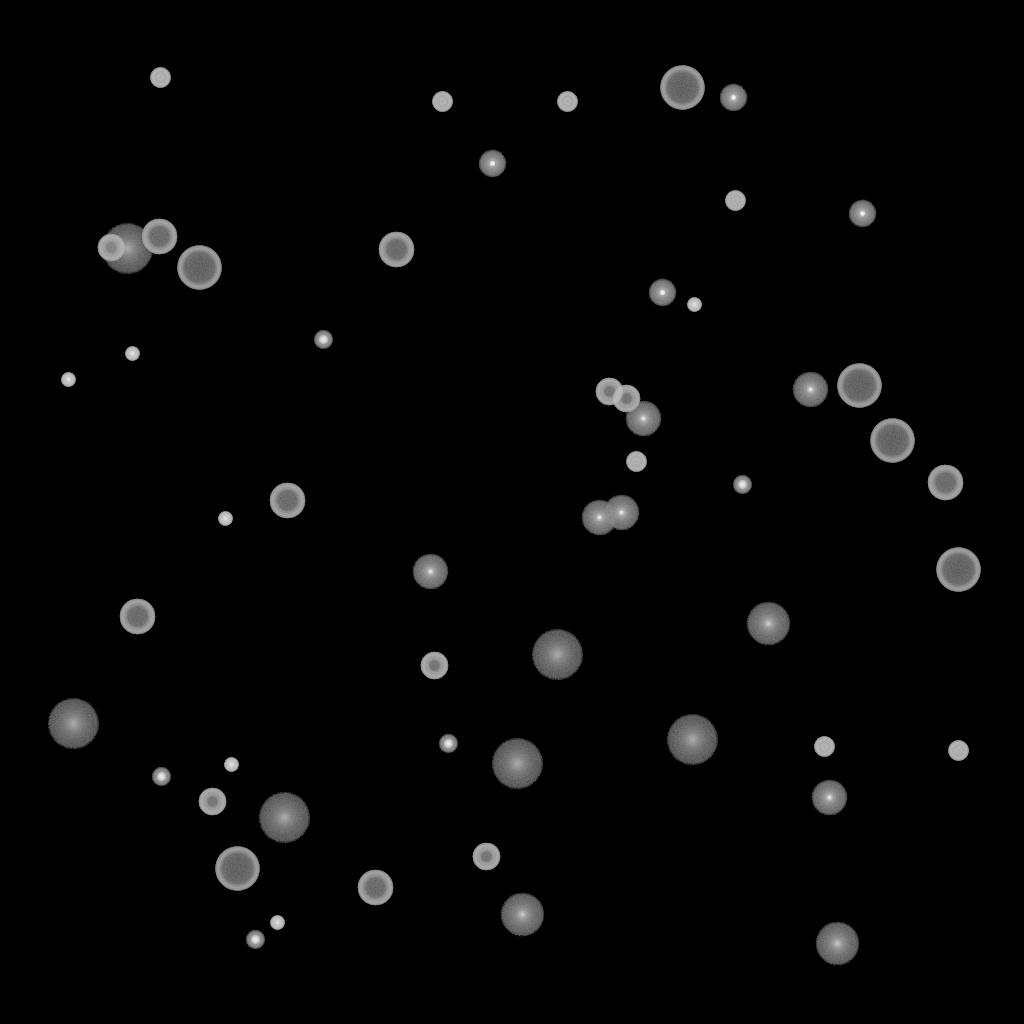depth:-10: (848, 200, 876, 228), (719, 84, 747, 112), (648, 279, 676, 307), (478, 150, 506, 178)
depth:-20: (246, 931, 264, 949), (439, 735, 457, 753), (733, 476, 751, 494), (152, 768, 170, 786), (314, 331, 332, 349)
depth:-30: (218, 512, 232, 526), (224, 758, 238, 772), (61, 373, 75, 387), (270, 916, 284, 930), (125, 347, 139, 361), (687, 298, 701, 312)
depth:-40: (557, 92, 577, 112), (432, 92, 452, 112), (150, 68, 170, 88), (814, 737, 834, 757), (948, 741, 968, 761), (725, 191, 745, 211), (626, 452, 646, 472)
depth:-50: (97, 234, 125, 262), (420, 652, 448, 680), (612, 385, 640, 413), (198, 788, 226, 816), (595, 378, 623, 406), (472, 843, 500, 871)
depth:-60: (141, 219, 177, 255), (927, 465, 963, 501), (357, 870, 393, 906), (269, 483, 305, 519), (119, 599, 155, 635), (378, 232, 414, 268)
depth:-70: (936, 548, 980, 592), (215, 847, 259, 891), (177, 246, 221, 290), (837, 364, 881, 408), (660, 66, 704, 110), (870, 419, 914, 463)
depth:0: (792, 372, 828, 408), (581, 500, 617, 536), (811, 780, 847, 816), (603, 495, 639, 531), (412, 554, 448, 590), (625, 401, 661, 437)
depth:10: (746, 602, 790, 646), (815, 922, 859, 966), (500, 893, 544, 937)
depth:20: (666, 715, 718, 765), (101, 224, 153, 274), (258, 793, 310, 843), (531, 630, 583, 680), (47, 699, 99, 749), (491, 739, 543, 789)
